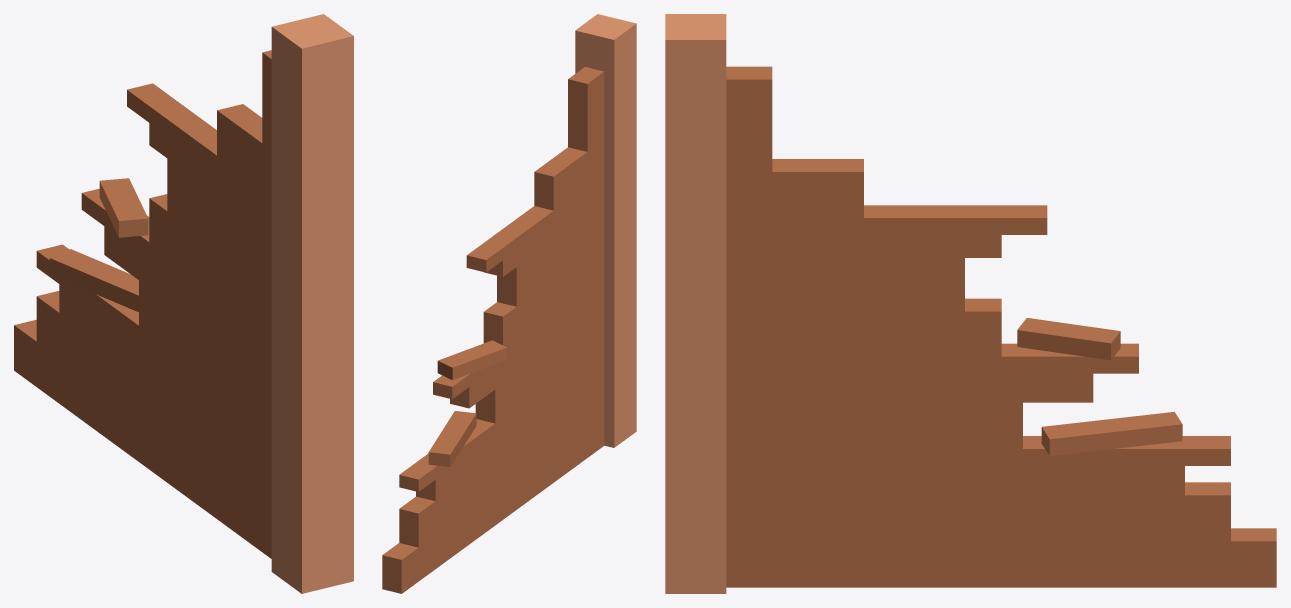
File: wallWoodBroken.dae
The picture shows the model from 3 angles, left to right: view 1: azimuth 30°, elevation 25°; view 2: azimuth 150°, elevation 25°; view 3: azimuth 270°, elevation 25°; orthographic projection. The views are drawn at different scales.
Parts seen in each view (by area): view 1: wallWoodBroken; view 2: wallWoodBroken; view 3: wallWoodBroken.
Boxes of the visible parts, x1,y1,x2,y2 form: wallWoodBroken: (14, 14, 353, 593); wallWoodBroken: (382, 14, 636, 593); wallWoodBroken: (665, 14, 1276, 593).
Size of the model in its own units: 0.1129 by 1 by 1.
